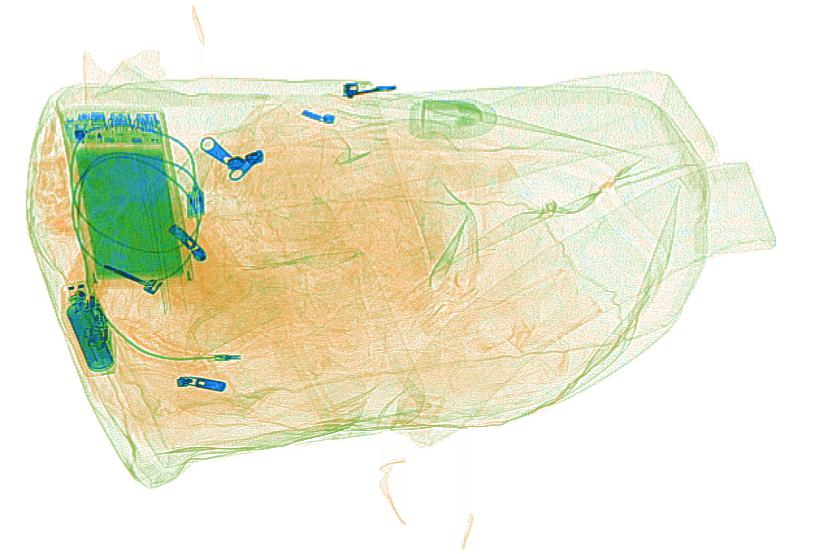battery: (63, 293, 116, 373)
